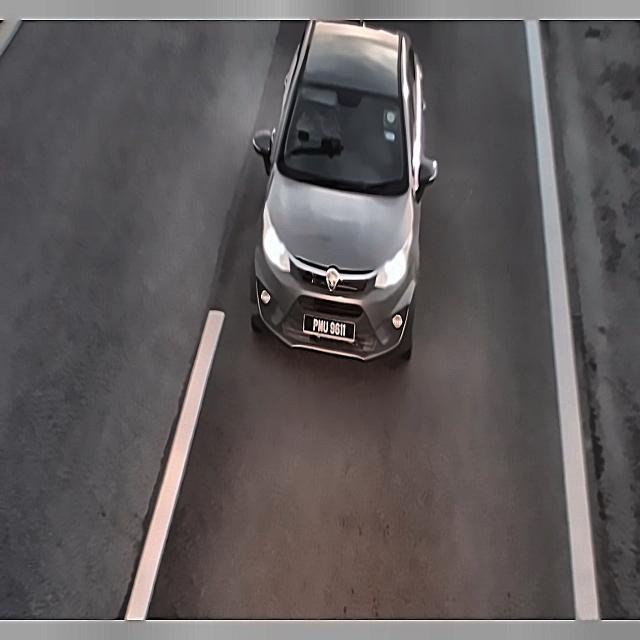car: (300, 308, 360, 346)
